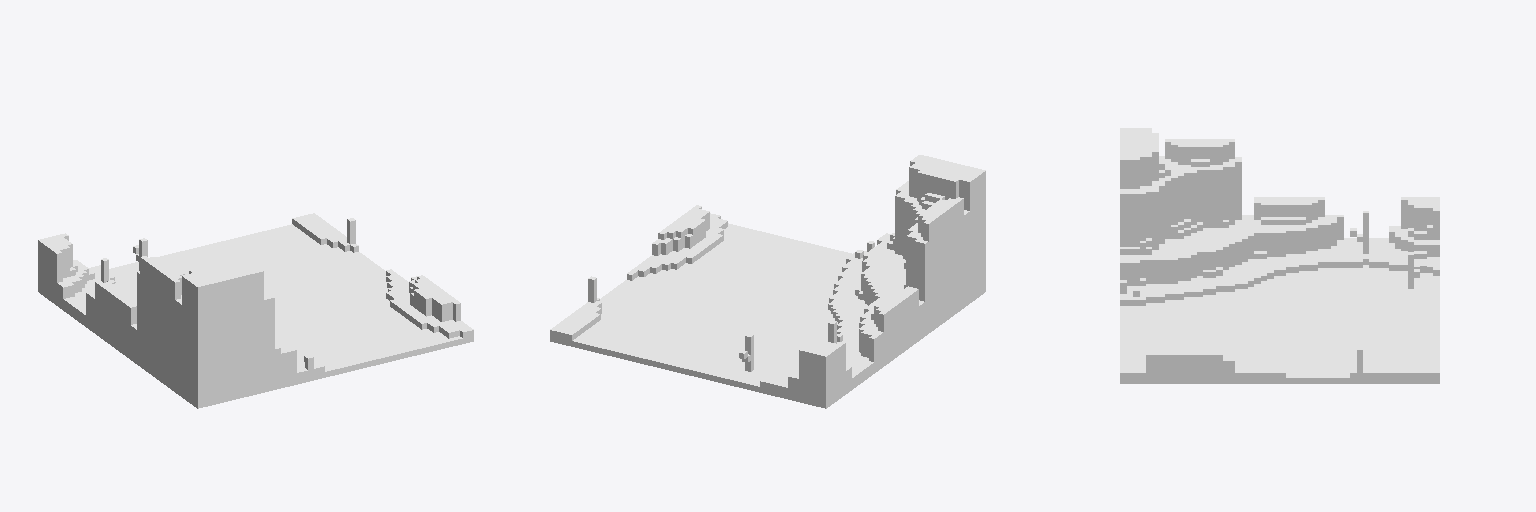
Rendered from Test_Map.obj.
3 views of the same model, side by side, from view 1: azimuth 30°, elevation 25°; view 2: azimuth 150°, elevation 25°; view 3: azimuth 270°, elevation 25° (orthographic).
Size of the model in its own units: 50 by 21 by 50.